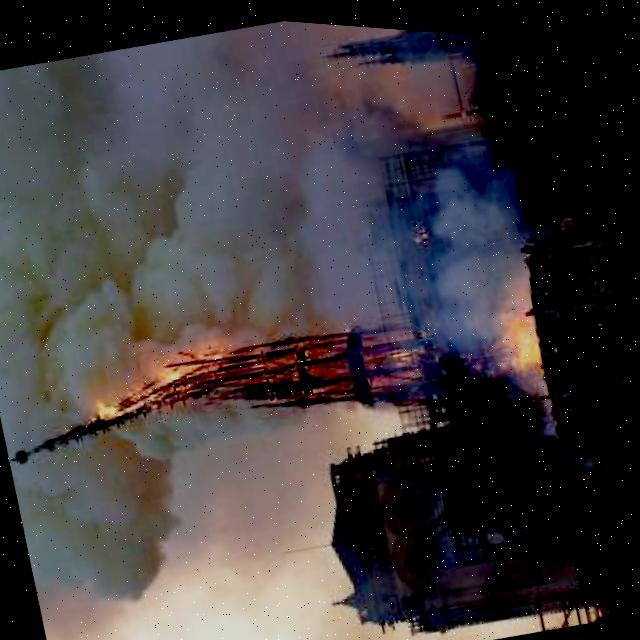Fire: (79, 275, 429, 449), (484, 284, 550, 371)
Smoke: (0, 0, 471, 640)
